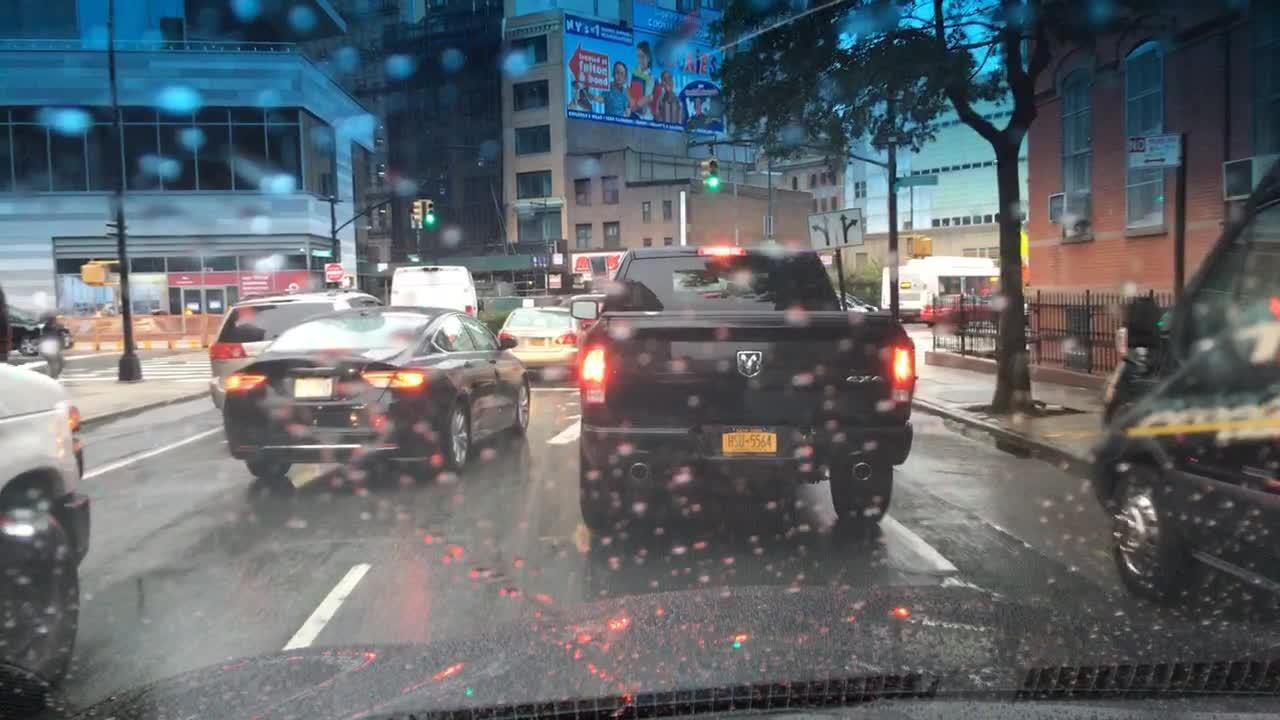ram: (730, 345, 768, 385)
